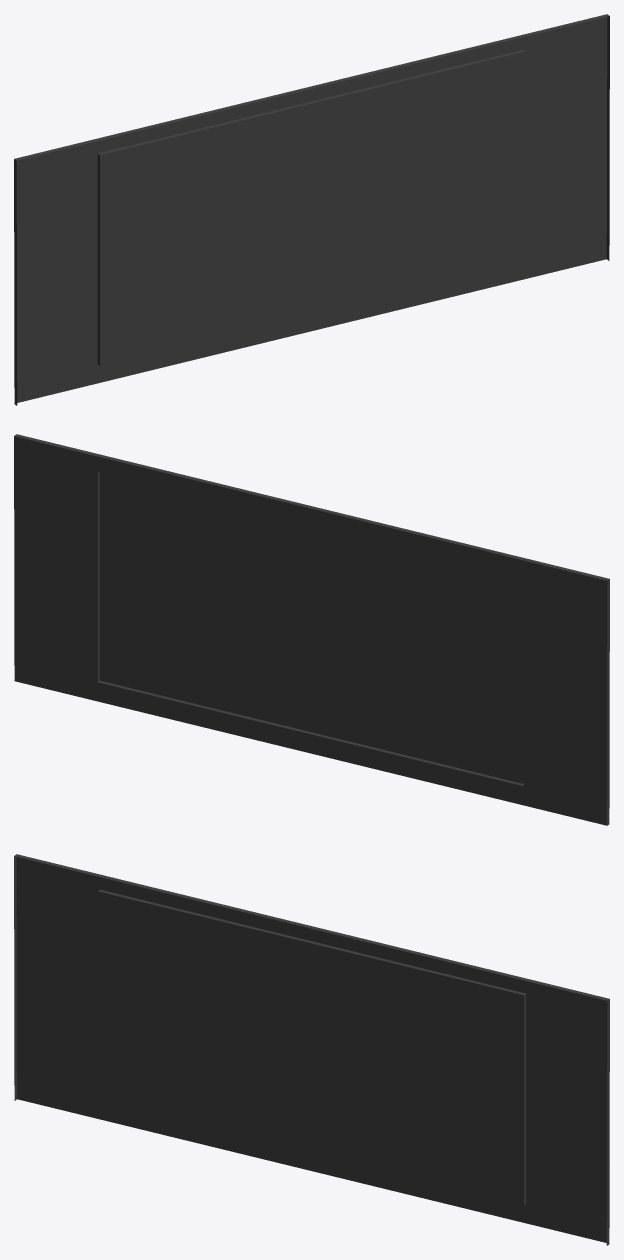
Rendered from Front_Wall_Screen.FBX.
3 renders of one model, top to bottom at view 1: azimuth 30°, elevation 25°; view 2: azimuth 150°, elevation 25°; view 3: azimuth 330°, elevation 25°, orthographic.
Visible parts, largest first — view 1: Front_Wall_Screen; view 2: Front_Wall_Screen; view 3: Front_Wall_Screen.
Part boxes in pixels (bbox=[...]): Front_Wall_Screen: bbox=[14, 14, 609, 405]; Front_Wall_Screen: bbox=[14, 434, 609, 825]; Front_Wall_Screen: bbox=[14, 854, 609, 1245].
Size of the model in its own units: 27281 by 10766 by 214.
